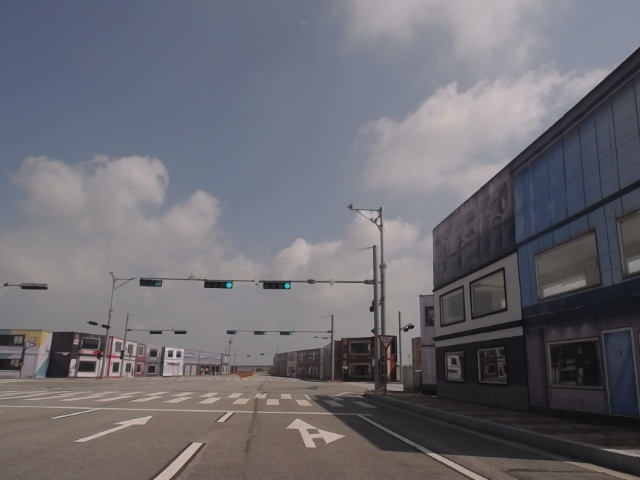straight_green_4: (203, 279, 233, 289), (263, 281, 291, 290)
